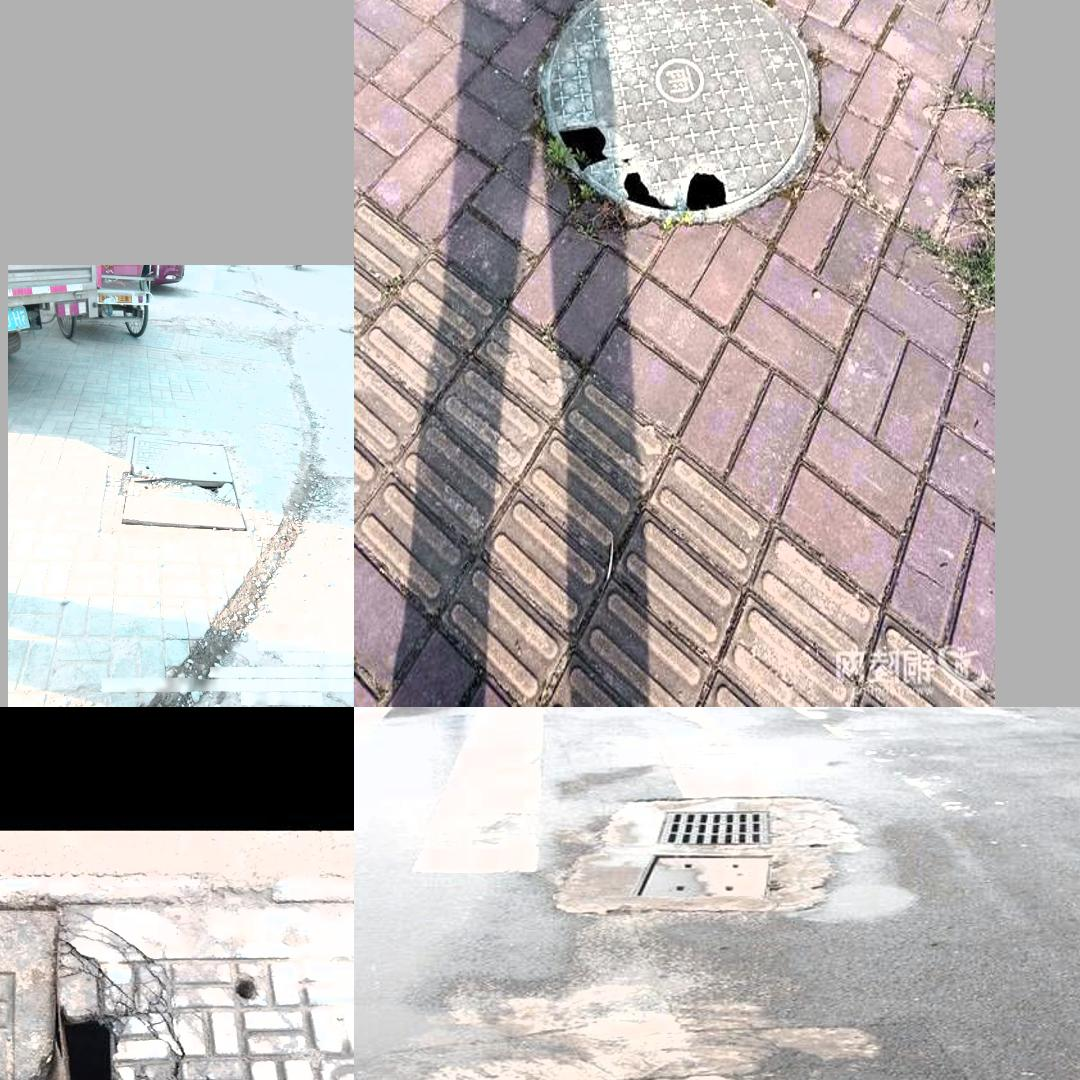broke: (519, 0, 833, 236), (0, 868, 345, 1080), (423, 1044, 1056, 1080), (120, 441, 232, 524)
